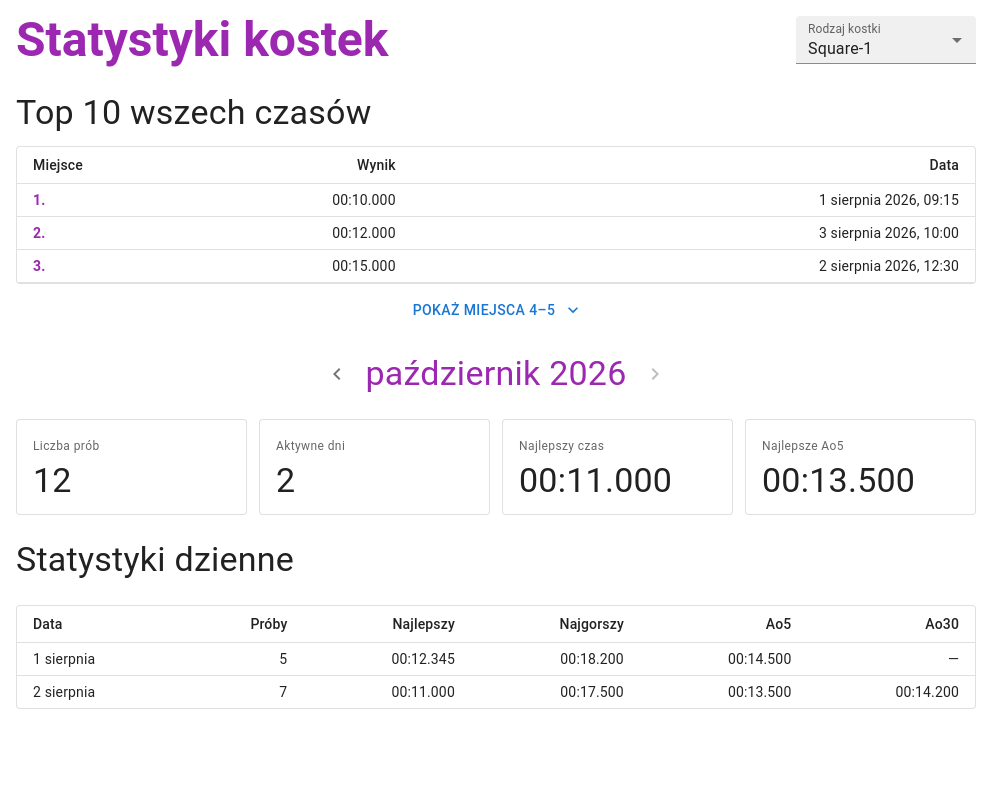
Test: CubeStatsPage › shows the top three results and expands the remaining places
The width and height of the screenshot is (993, 792).
Check: the heading "12" is shown, box [33,460,72,500]
Check: the heading "2" is shown, box [276,460,295,500]
Step 1. Click the button "Pokaż miejsca 4–5" → point(496, 310), box [405,292,587,328]
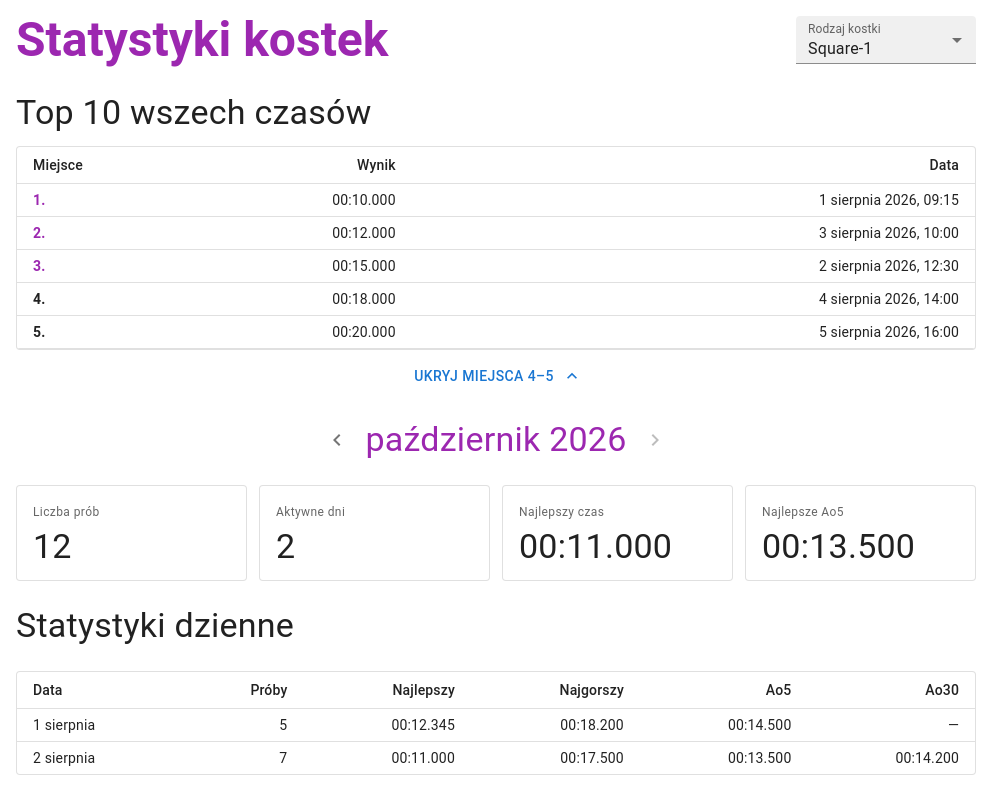
Check: the text "00:18.000" is shown, box [99,282,412,316]
Check: the text "00:20.000" is shown, box [99,316,412,349]
Check: the button "Ukryj miejsca 4–5" is expanded, box [406,358,586,395]
